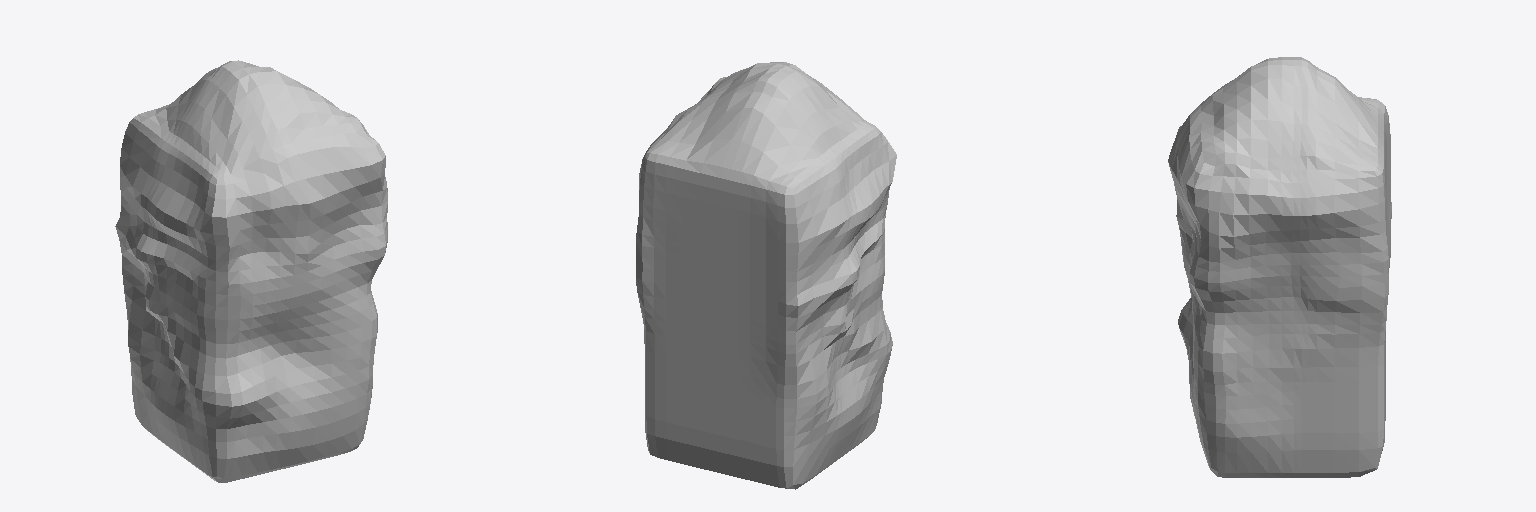
File: PM3D_rock001_001.OBJ
3 views of the same model, side by side, from view 1: azimuth 30°, elevation 25°; view 2: azimuth 150°, elevation 25°; view 3: azimuth 270°, elevation 25° (orthographic).
Visible parts, largest first — view 1: Group38151; view 2: Group38151; view 3: Group38151.
Boxes of the visible parts, x1,y1,x2,y2 form: Group38151: [115, 60, 387, 482]; Group38151: [636, 62, 896, 489]; Group38151: [1168, 57, 1391, 477].
Bounding box in the file's own units: 5126 × 9098 × 4866.